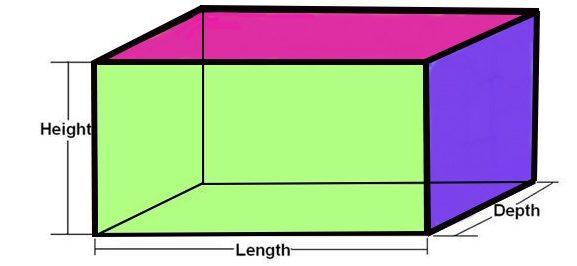cube: (93, 3, 539, 226)
